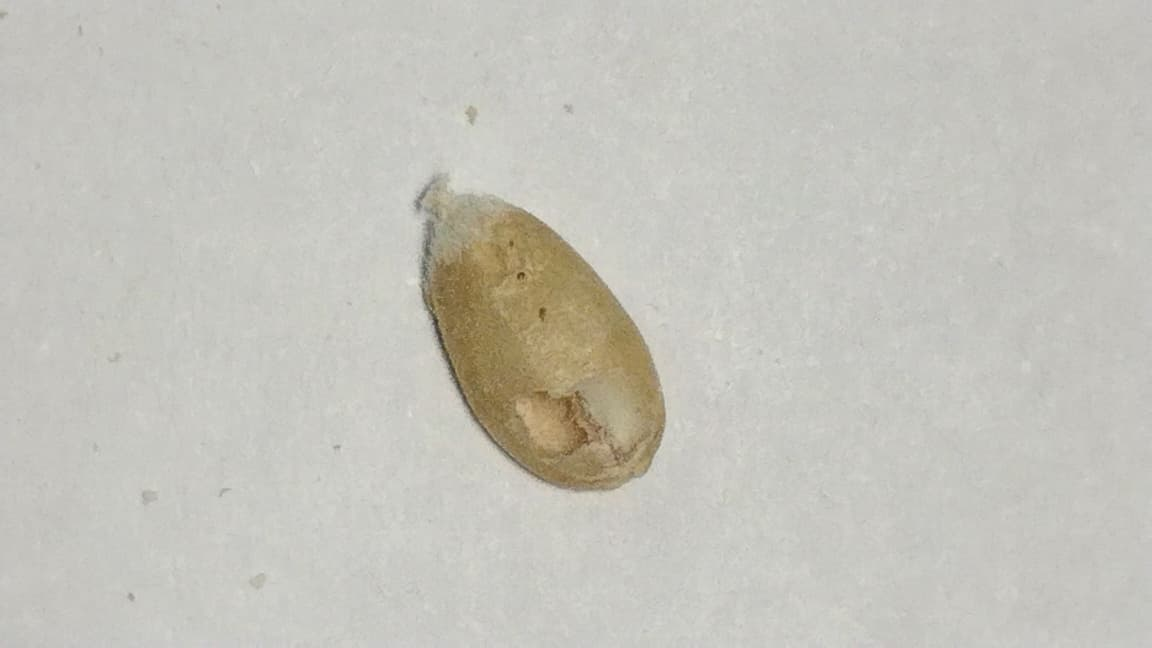damage: (414, 173, 664, 490)
insectdamage: (486, 366, 676, 463)
